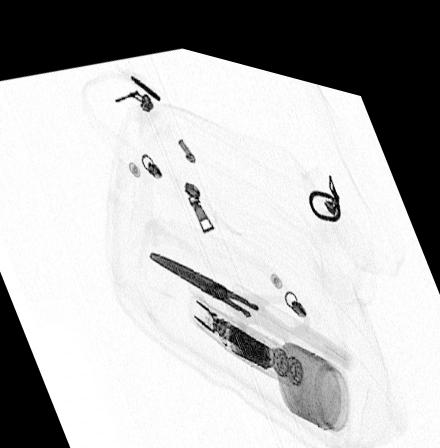Scissors: (149, 245, 301, 360)
